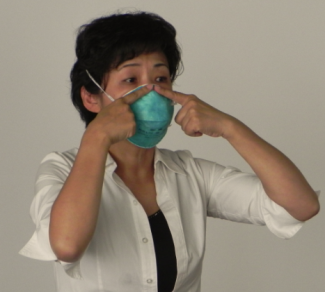face_mask: (103, 47, 172, 145)
